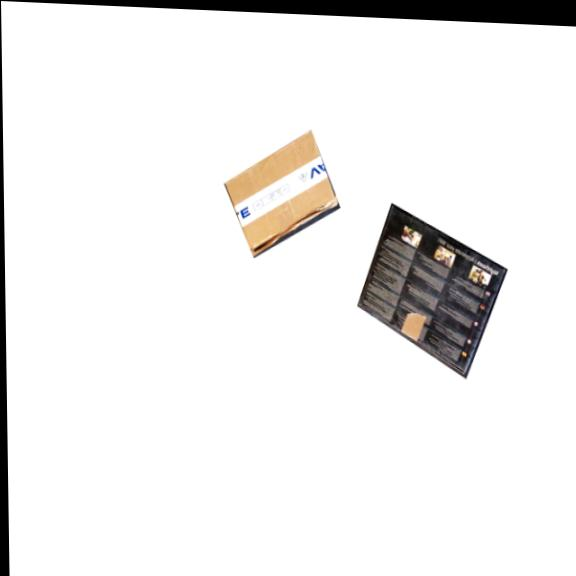Kertas: (356, 202, 504, 375), (223, 126, 340, 261)
